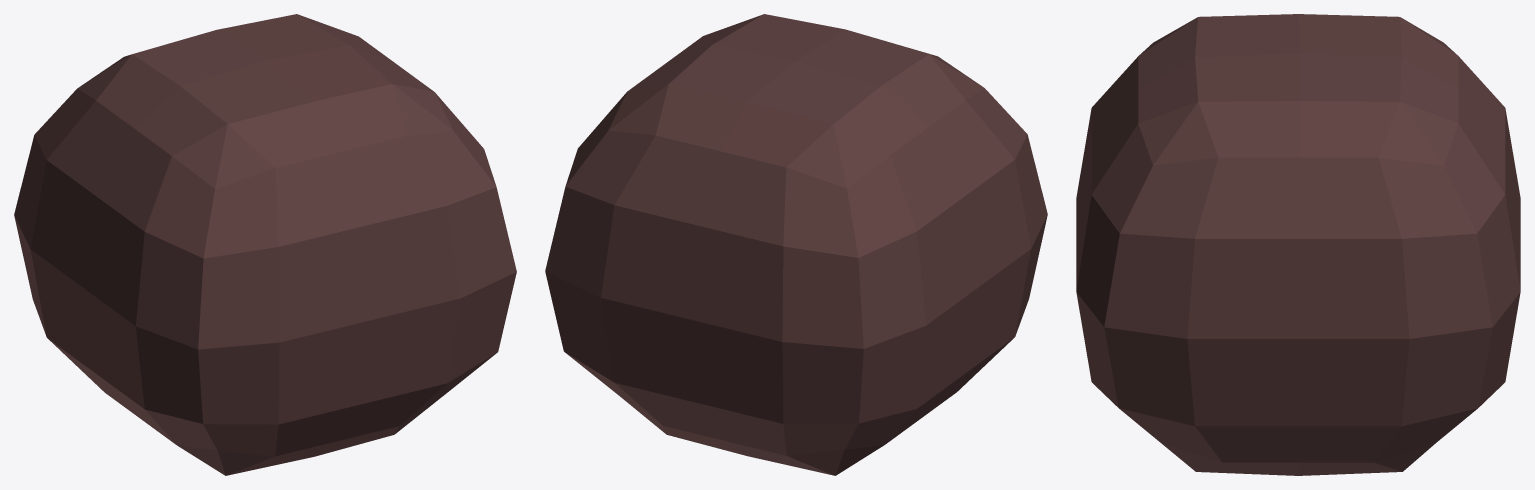
File: pebble.fbx
3 views of the same model, side by side, from view 1: azimuth 30°, elevation 25°; view 2: azimuth 150°, elevation 25°; view 3: azimuth 270°, elevation 25° (orthographic). The views are drawn at different scales.
Parts seen in each view (by area): view 1: Cube; view 2: Cube; view 3: Cube.
Part boxes in pixels (x1,y1,x2,y2): Cube: (14, 14, 516, 475); Cube: (545, 14, 1047, 475); Cube: (1076, 14, 1520, 475).
Size of the model in its own units: 215 by 204 by 215.
